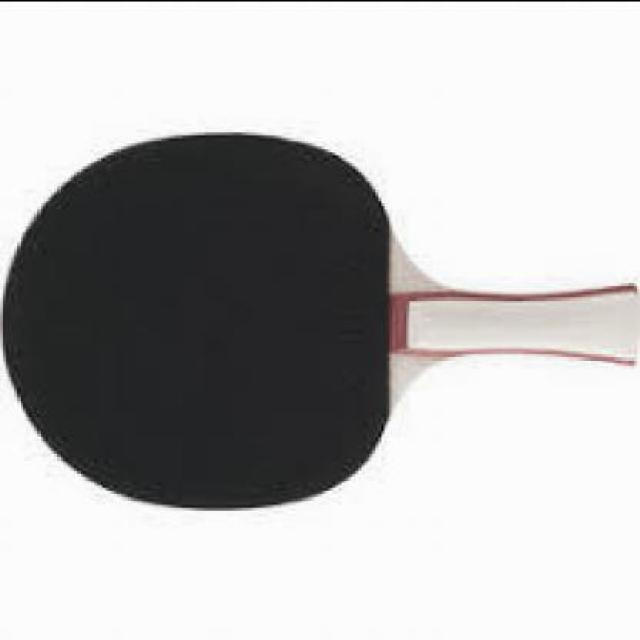table_tennis_racket: (0, 124, 420, 516)
